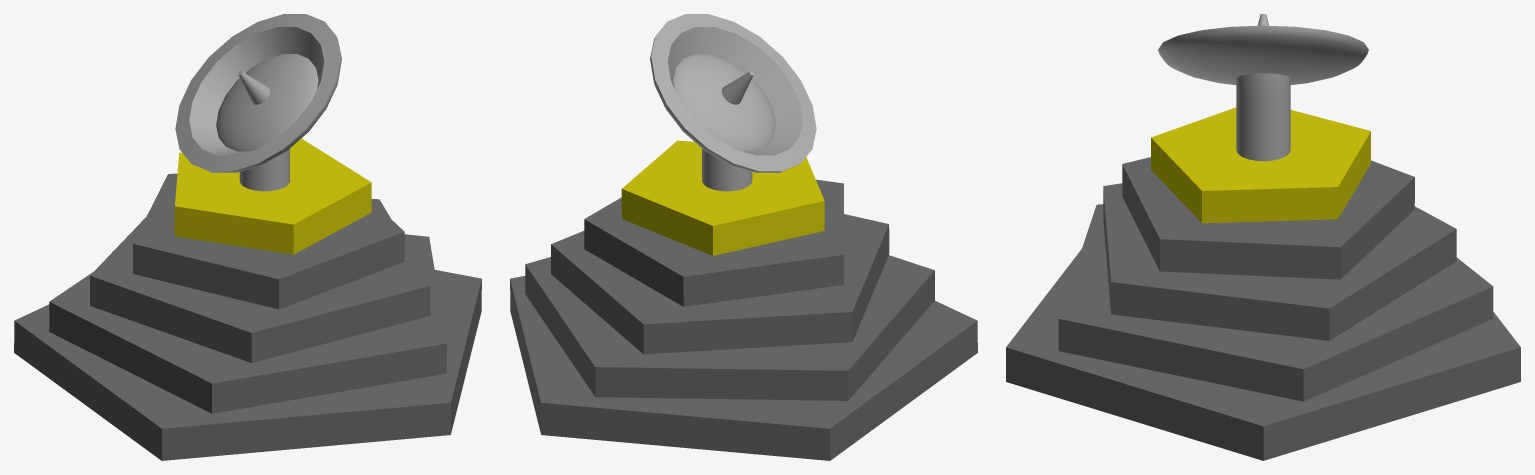
Rendered from boostTower.fbx.
3 views of the same model, side by side, from view 1: azimuth 30°, elevation 25°; view 2: azimuth 150°, elevation 25°; view 3: azimuth 270°, elevation 25° (orthographic). The views are drawn at different scales.
Visible parts, largest first — view 1: pPyramid8; view 2: pPyramid8; view 3: pPyramid8.
Part boxes in pixels (x1=…): pPyramid8: x1=14, y1=14, x2=481, y2=460; pPyramid8: x1=510, y1=14, x2=977, y2=460; pPyramid8: x1=1006, y1=14, x2=1520, y2=460.
Size of the model in its own units: 2.69 by 2.14 by 2.83.
